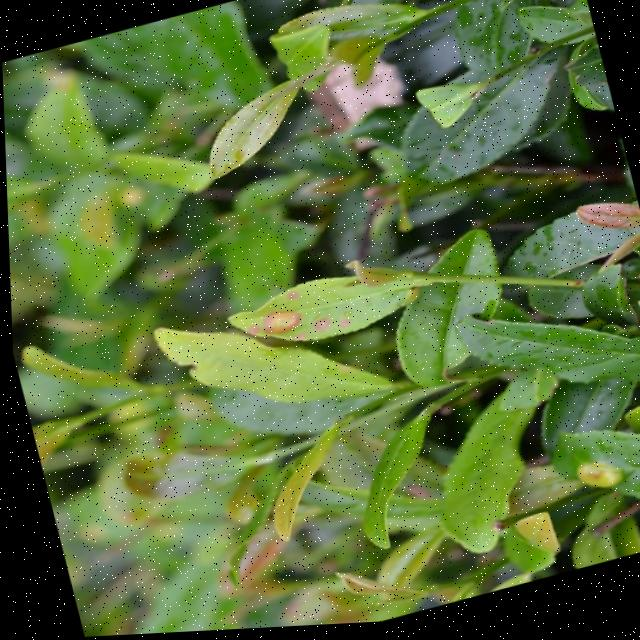Tea cake: (251, 301, 303, 343)
